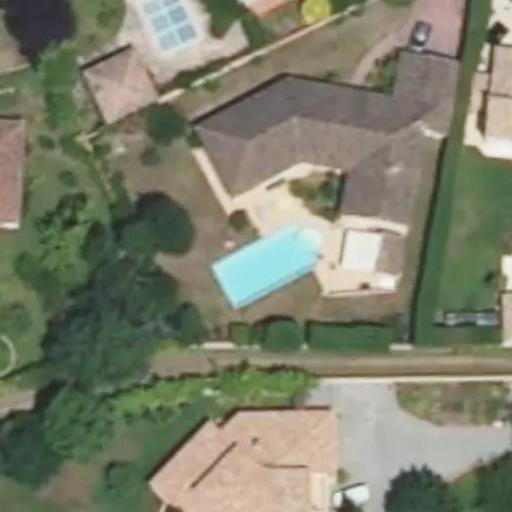pool: (212, 227, 321, 307), (138, 1, 200, 50)
